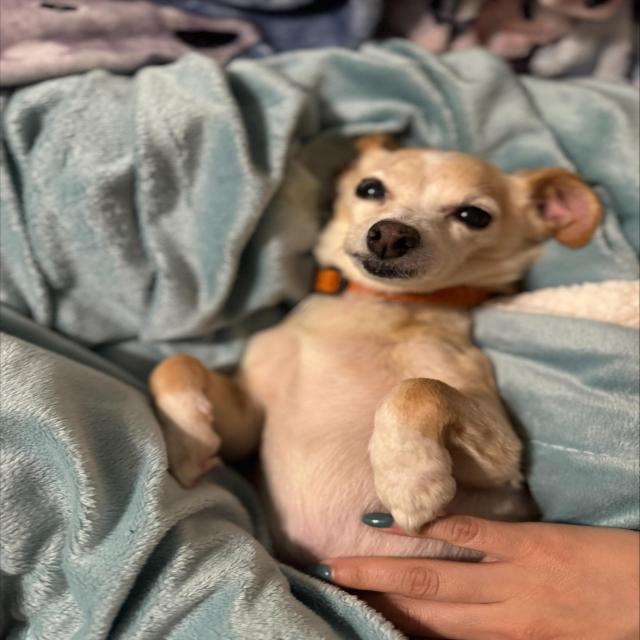chihuahua_dog: (294, 121, 609, 309)
